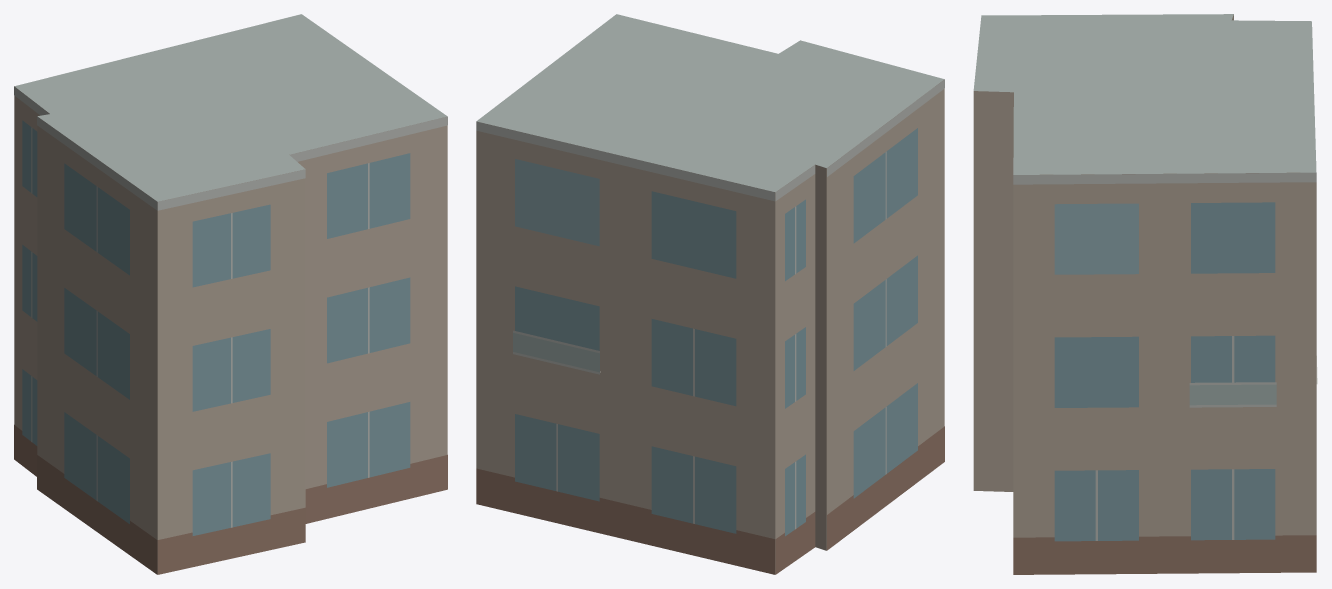
The model's file is survey-upis-32548446.glb.
3 views of the same model, side by side, from view 1: azimuth 30°, elevation 25°; view 2: azimuth 150°, elevation 25°; view 3: azimuth 270°, elevation 25° (orthographic). The views are drawn at different scales.
Visible parts, largest first — view 1: survey-upis-32548446.tmp; view 2: survey-upis-32548446.tmp; view 3: survey-upis-32548446.tmp.
Part boxes in pixels (x1=…): survey-upis-32548446.tmp: x1=14, y1=14, x2=447, y2=574; survey-upis-32548446.tmp: x1=476, y1=14, x2=944, y2=574; survey-upis-32548446.tmp: x1=973, y1=14, x2=1317, y2=574.
Size of the model in its own units: 8.73 by 10.1 by 7.88.
